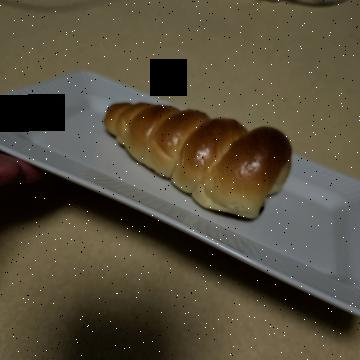cream horn: (96, 58, 247, 272)
